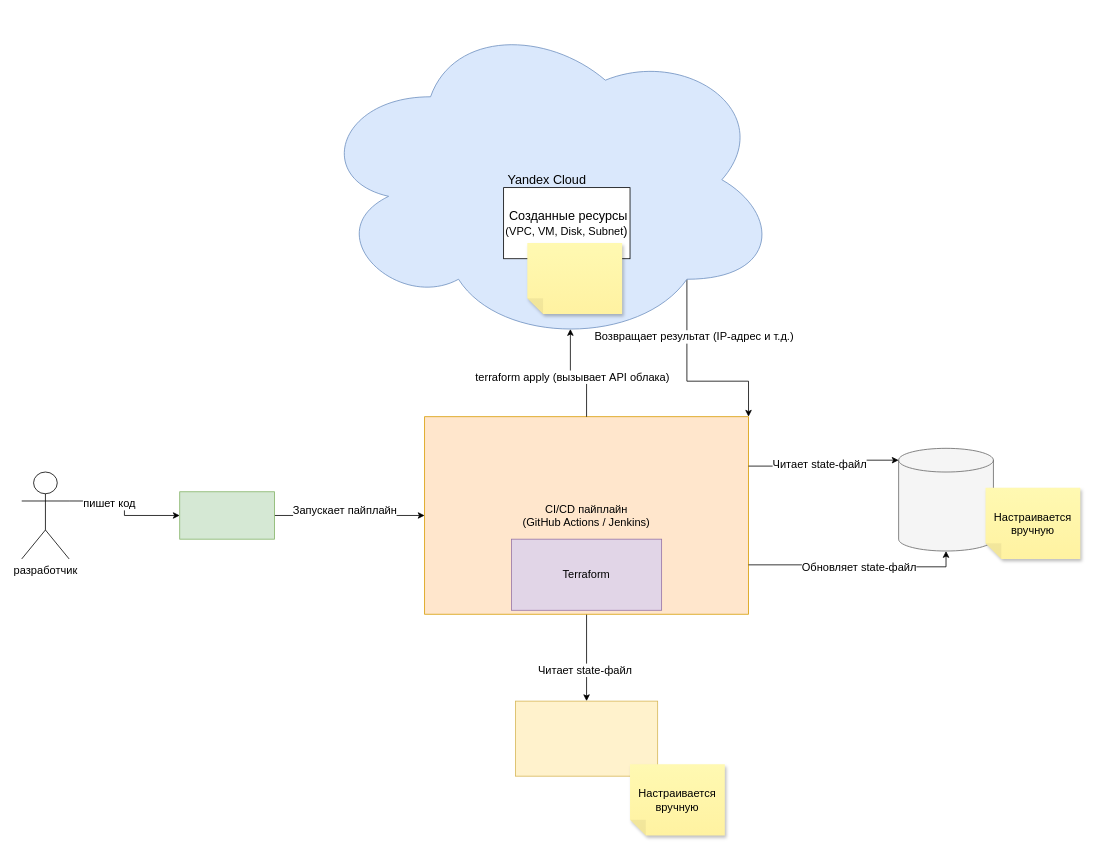
This 1099x855 diagram has some shape labels left out. Here are the shapes that lost their labels. From the top down, the centre of each, then its label:
pixel 575 279: Управляется Terraform
pixel 227 515: git репозиторий
pixel 945 499: Yandex Object Storage (Хранит .tfstate файл)
pixel 586 738: Хранилище секретов (Хранит OAuth-токен)
